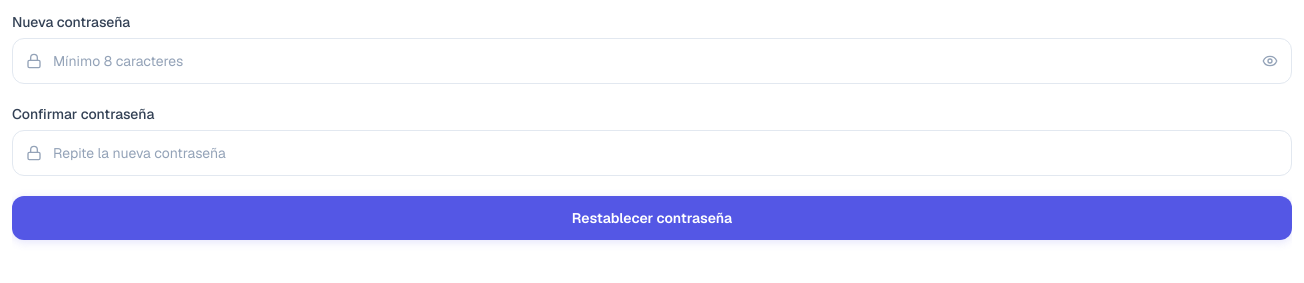
it: ResetPasswordForm › muestra error cuando las contraseñas no coinciden
Type "password123" into the password field labelled "Nueva contraseña" at [652, 61], box [12,38,1292,84]
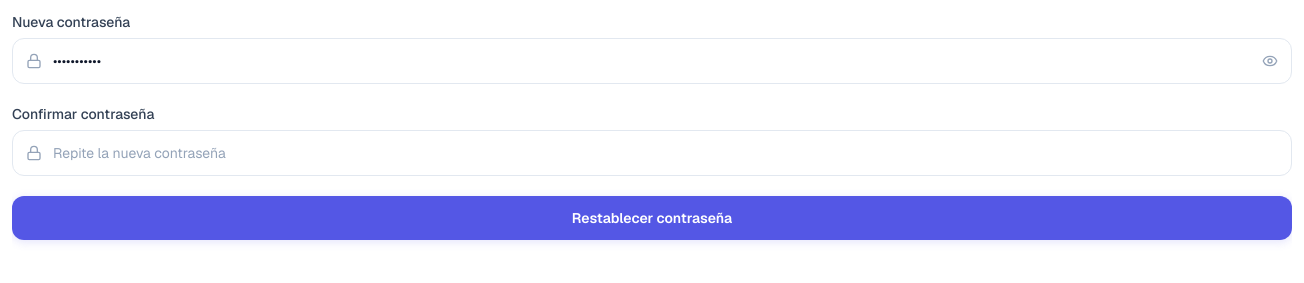
Type "distinta456" into the password field labelled "Confirmar contraseña" at [652, 153], box [12,130,1292,176]
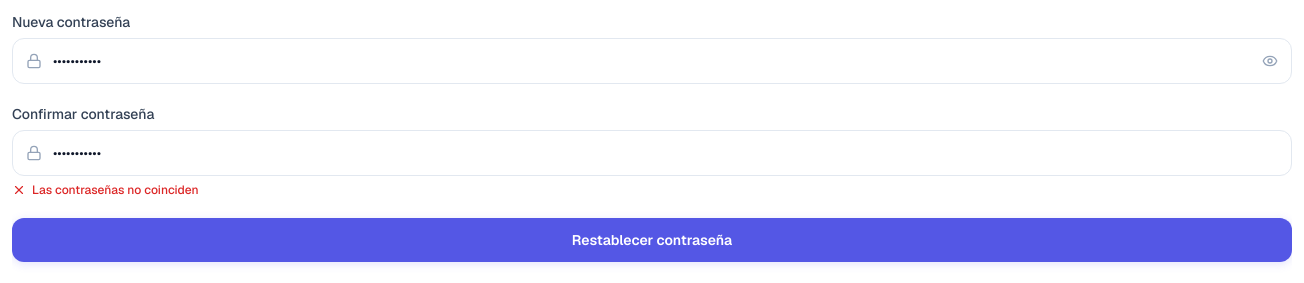
Click the button "Restablecer contraseña" at [652, 240], box [12,218,1292,262]
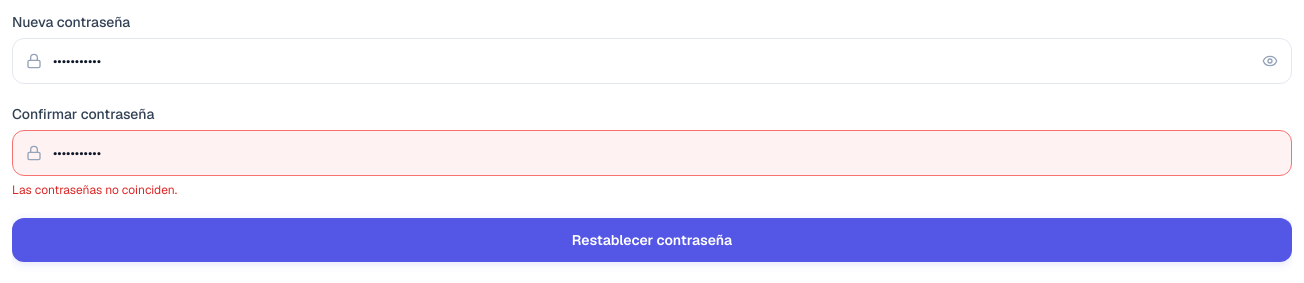
Result: the text "Las contraseñas no coinciden." is shown at [12,182,177,198]
